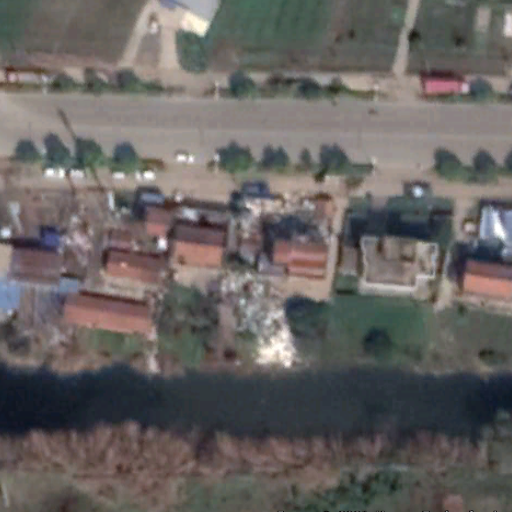msw: (226, 274, 300, 371), (237, 194, 332, 247), (60, 212, 100, 267)
